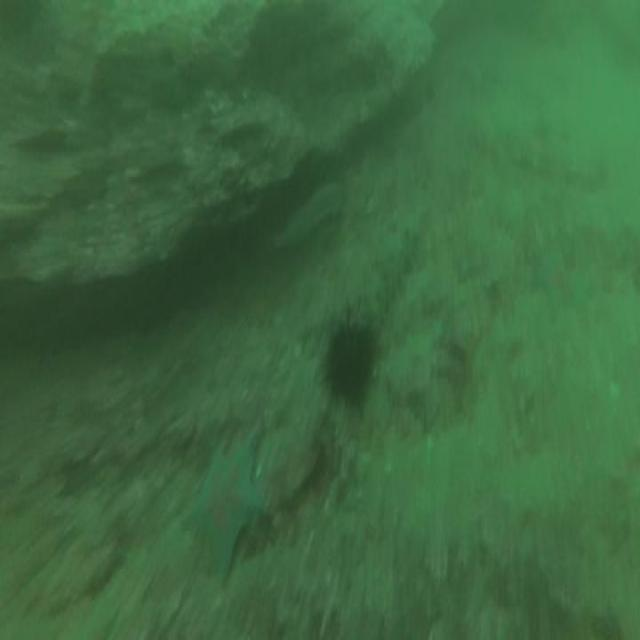echinus: (327, 320, 373, 404)
starfish: (182, 439, 262, 583)
